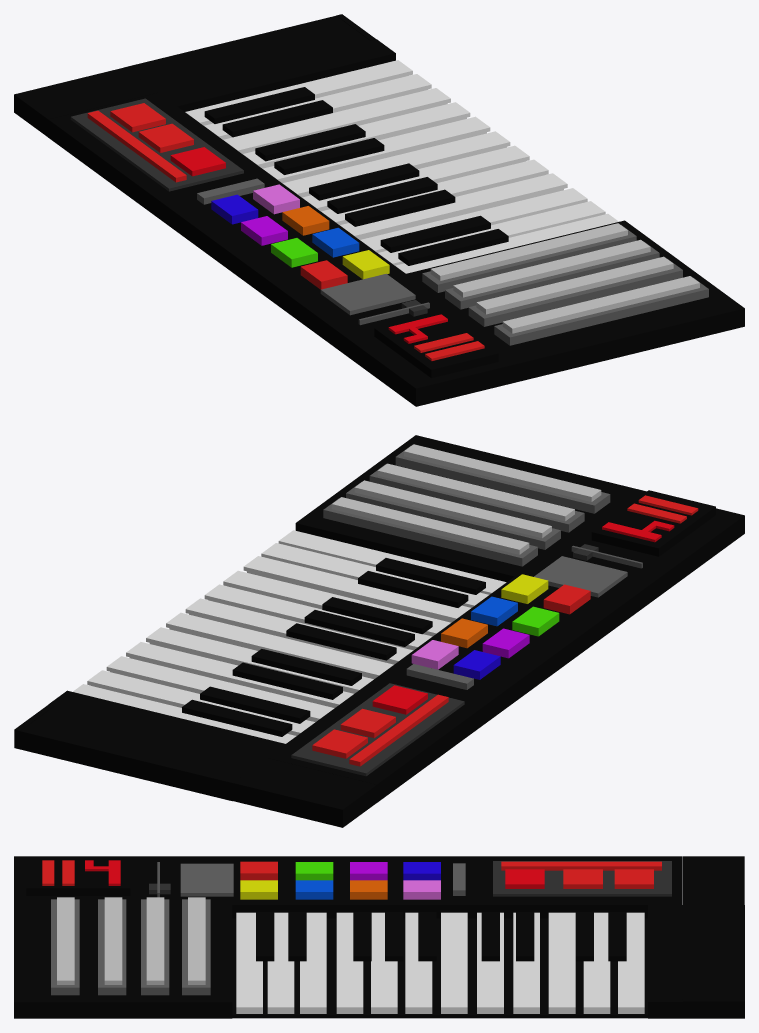
The model's file is piano.fbx.
3 views of the same model, one above another, from view 1: azimuth 30°, elevation 25°; view 2: azimuth 150°, elevation 25°; view 3: azimuth 270°, elevation 25° (orthographic). The views are drawn at different scales.
Visible parts, largest first — view 1: Cube, Cube.051, Cube.030, Cube.026, Cube.010, Cube.031, Cube.023, Cube.027, Cube.018, Cube.020, Cube.053, Cube.019 (+36 smaller); view 2: Cube, Cube.051, Cube.031, Cube.036, Cube.010, Cube.023, Cube.030, Cube.029, Cube.053, Cube.018, Cube.020, Cube.019 (+36 smaller); view 3: Cube, Cube.025, Cube.051, Cube.023, Cube.010, Cube.030, Cube.031, Cube.036, Cube.037, Cube.026, Cube.034, Cube.028 (+40 smaller).
Boxes of the visible parts, x1,y1,x2,y2 form: Cube: (48, 16, 744, 406); Cube.051: (14, 67, 157, 137); Cube.030: (223, 88, 450, 153); Cube.026: (340, 173, 567, 239); Cube.010: (70, 98, 243, 191); Cube.031: (282, 131, 510, 197); Cube.023: (374, 311, 498, 378); Cube.027: (263, 116, 490, 183); Cube.018: (453, 239, 650, 297); Cube.020: (476, 256, 673, 314); Cube.053: (430, 223, 627, 280); Cube.019: (502, 276, 699, 333); Cube: (20, 435, 744, 802); Cube.051: (232, 758, 376, 827); Cube.031: (166, 612, 393, 678); Cube.036: (243, 556, 470, 622); Cube.010: (291, 683, 464, 776); Cube.023: (591, 490, 715, 556); Cube.030: (106, 656, 334, 721); Cube.029: (126, 642, 353, 707); Cube.053: (331, 497, 529, 554); Cube.018: (354, 480, 551, 538); Cube.020: (377, 463, 574, 521); Cube.019: (404, 444, 601, 501); Cube: (14, 856, 744, 1018); Cube.025: (232, 918, 647, 1018); Cube.051: (682, 856, 744, 904); Cube.023: (26, 858, 130, 895); Cube.010: (493, 861, 671, 896); Cube.030: (548, 912, 575, 1013); Cube.031: (441, 912, 467, 1013); Cube.036: (300, 912, 326, 1013); Cube.037: (236, 912, 262, 1013); Cube.026: (336, 912, 363, 1013); Cube.034: (618, 912, 644, 1013); Cube.028: (267, 912, 294, 1013).
Size of the model in its own units: 526 by 48.36 by 1114.
